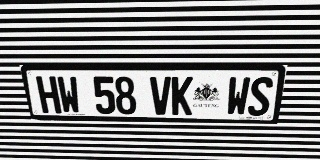5: (93, 76, 116, 114)
8: (114, 76, 137, 114)
H: (35, 76, 62, 113)
K: (172, 77, 193, 115)
S: (247, 77, 274, 116)
V: (150, 77, 171, 115)
W: (226, 77, 251, 116), (56, 76, 81, 114)
